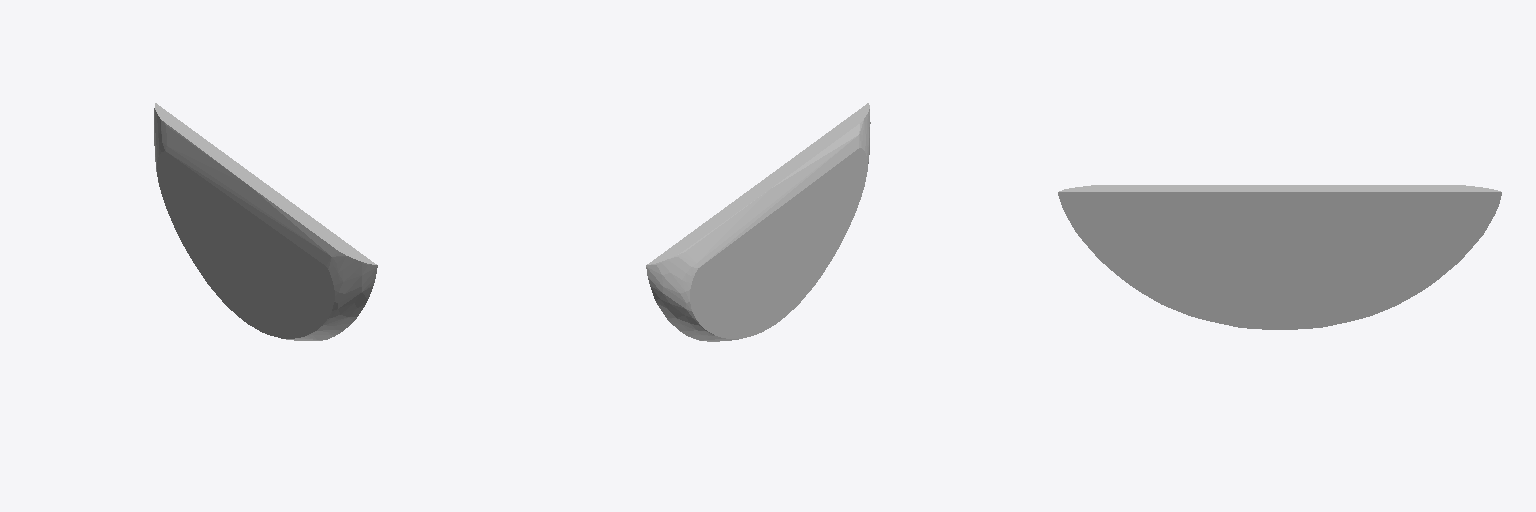
The model's file is weight_4_collision_37.obj.
3 renders of one model, left to right at view 1: azimuth 30°, elevation 25°; view 2: azimuth 150°, elevation 25°; view 3: azimuth 270°, elevation 25°, orthographic.
Size of the model in its own units: 0.0252 by 0.1574 by 0.4572.